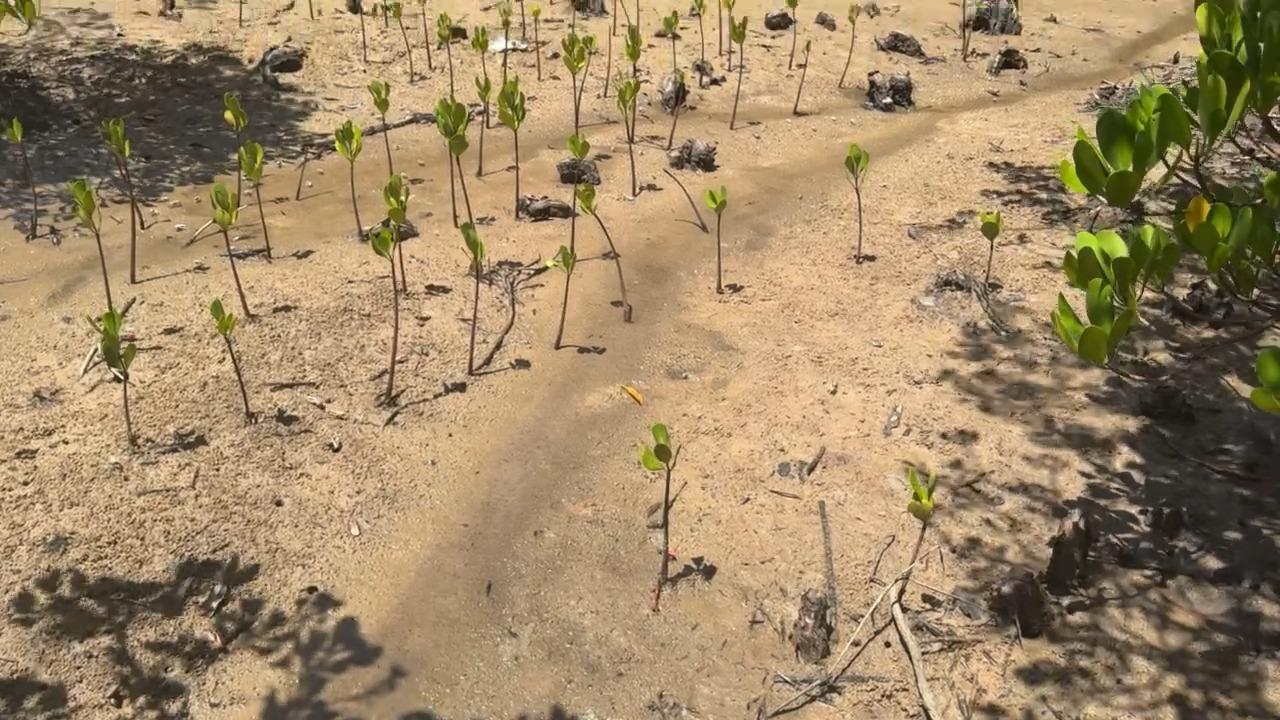Tree: (365, 174, 410, 402), (574, 182, 631, 318), (554, 134, 589, 348), (62, 176, 113, 312), (84, 309, 137, 438), (643, 422, 681, 580), (211, 183, 253, 314), (105, 116, 138, 282), (433, 95, 475, 220), (900, 465, 938, 597), (101, 119, 144, 229), (0, 115, 38, 238), (497, 71, 527, 216), (212, 299, 249, 412), (612, 67, 642, 194), (561, 31, 597, 135), (240, 139, 272, 254), (460, 223, 485, 368), (335, 119, 364, 234), (223, 91, 249, 208), (844, 145, 869, 261), (434, 98, 457, 224), (661, 169, 707, 226), (366, 79, 393, 173), (623, 25, 643, 139), (388, 3, 414, 80), (708, 186, 727, 290), (838, 3, 861, 86), (731, 16, 747, 126), (474, 77, 492, 174), (961, 0, 989, 60), (436, 12, 455, 98), (981, 211, 1003, 283), (669, 68, 688, 150), (688, 0, 706, 84), (498, 0, 514, 85), (794, 39, 811, 113), (662, 8, 680, 72), (471, 24, 490, 79), (785, 0, 797, 68), (532, 6, 543, 78), (726, 0, 736, 63), (358, 0, 368, 59), (605, 27, 611, 95), (717, 0, 724, 53), (958, 0, 965, 53), (619, 0, 632, 24), (518, 0, 526, 35), (633, 0, 640, 29), (571, 0, 577, 33), (612, 0, 617, 35), (308, 0, 314, 19), (239, 0, 242, 26)
